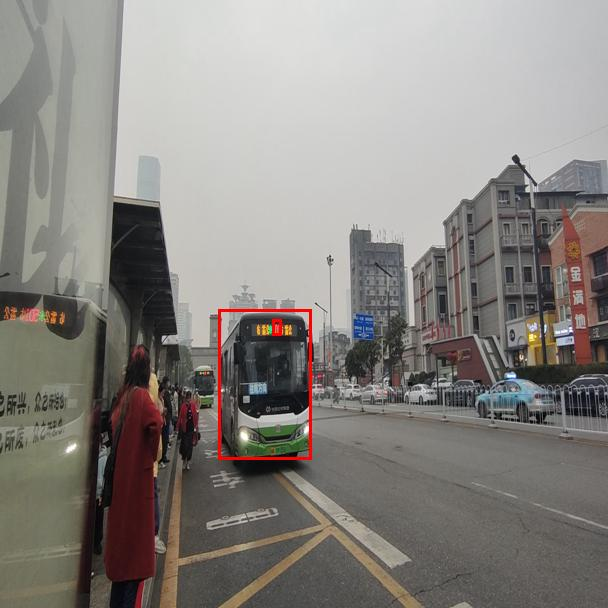bus: (218, 309, 311, 459)
screen: (272, 319, 281, 335)
